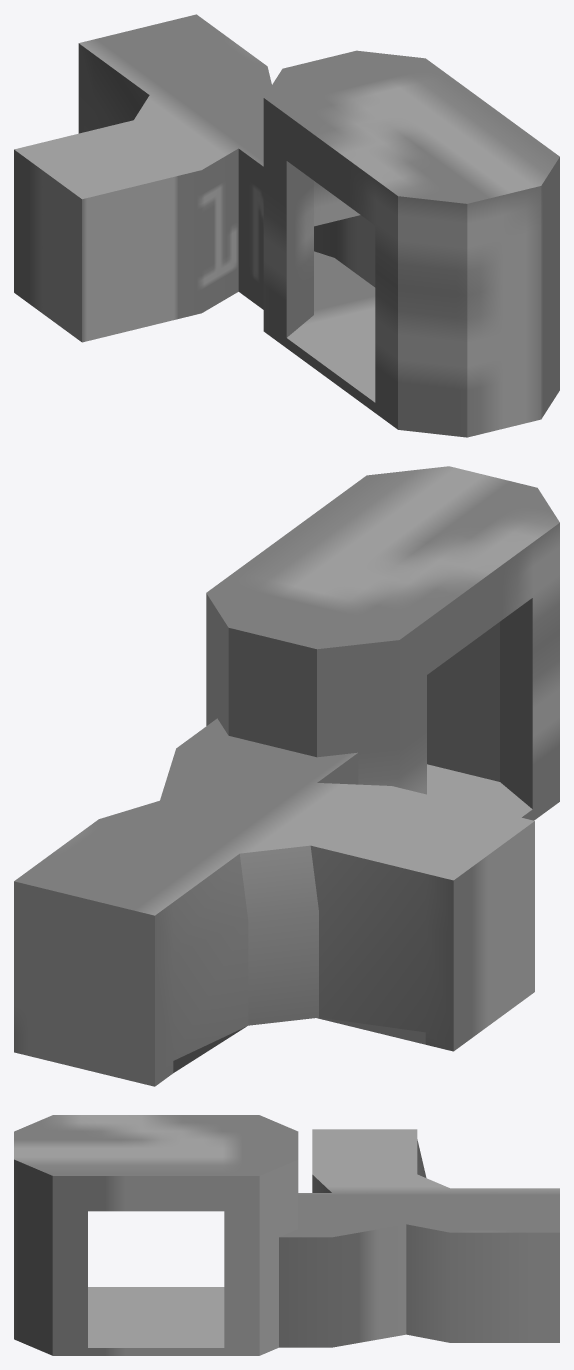
File: Portal.fbx
The picture shows the model from 3 angles, top to bottom: view 1: azimuth 30°, elevation 25°; view 2: azimuth 150°, elevation 25°; view 3: azimuth 270°, elevation 25°; orthographic projection. The views are drawn at different scales.
Visible parts, largest first — view 1: Portal; view 2: Portal; view 3: Portal.
Boxes of the visible parts, x1,y1,x2,y2 form: Portal: [14, 14, 559, 437]; Portal: [14, 466, 559, 1086]; Portal: [14, 1115, 559, 1355].
Size of the model in its own units: 1885 by 1360 by 3741.
